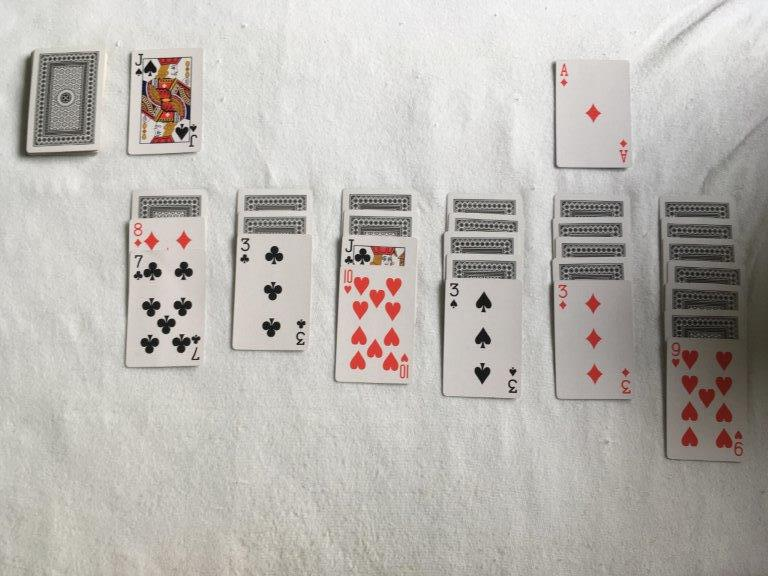10H: (340, 264, 356, 297)
3C: (238, 234, 254, 264)
3D: (555, 281, 573, 312)
3S: (447, 279, 462, 311)
7C: (131, 249, 147, 281)
8D: (132, 218, 144, 249)
9H: (668, 338, 685, 372)
AD: (557, 59, 572, 89)
BACK: (25, 46, 106, 153), (664, 308, 745, 337), (131, 188, 207, 216), (666, 281, 744, 308), (342, 208, 418, 234), (445, 252, 523, 277), (668, 259, 747, 283), (554, 193, 630, 217), (663, 237, 742, 260), (237, 209, 312, 233), (552, 256, 630, 279), (443, 231, 521, 253), (448, 211, 526, 233), (236, 187, 313, 209), (659, 195, 738, 216), (342, 187, 417, 209), (661, 216, 739, 237), (551, 216, 629, 237), (555, 236, 631, 257), (446, 192, 524, 212)
JC: (343, 235, 356, 262)
JS: (131, 48, 147, 78)
